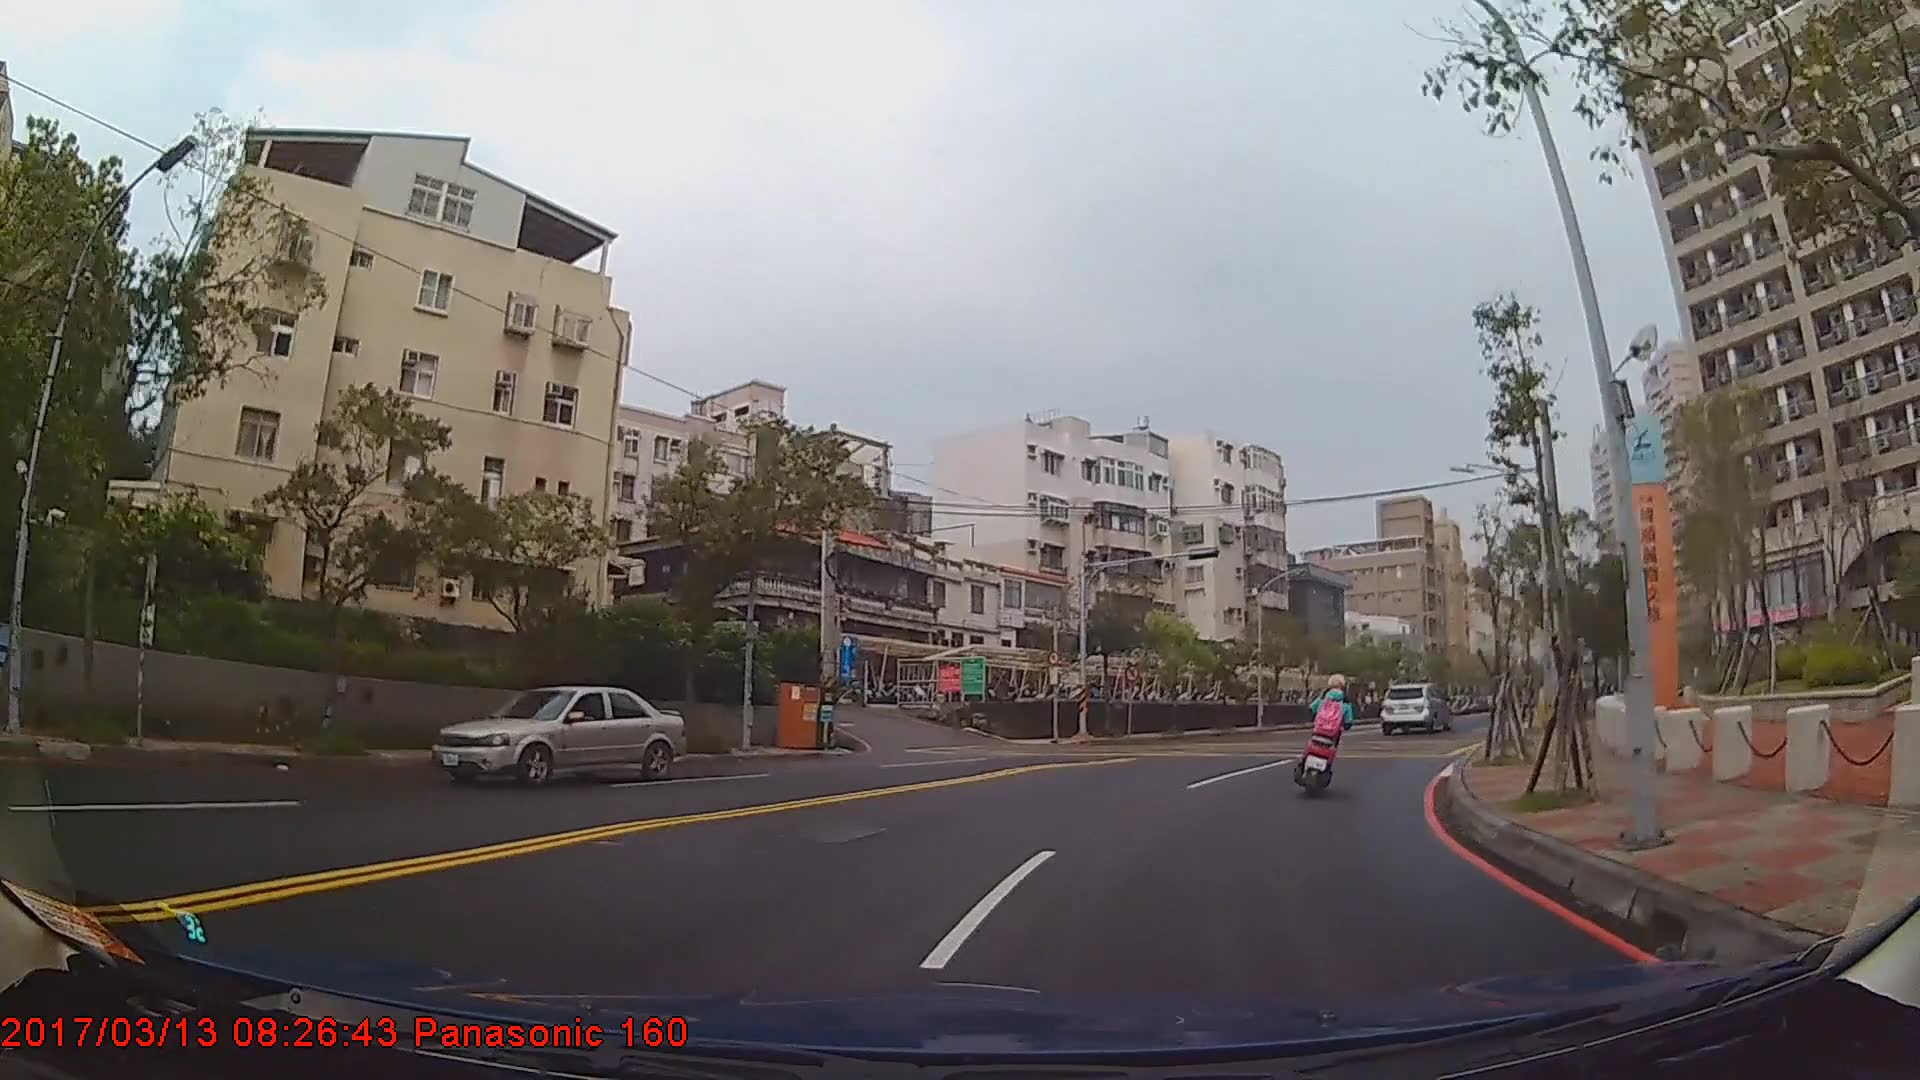rider: (1298, 674, 1358, 794)
vehicle: (430, 684, 685, 789), (1379, 680, 1446, 734)
